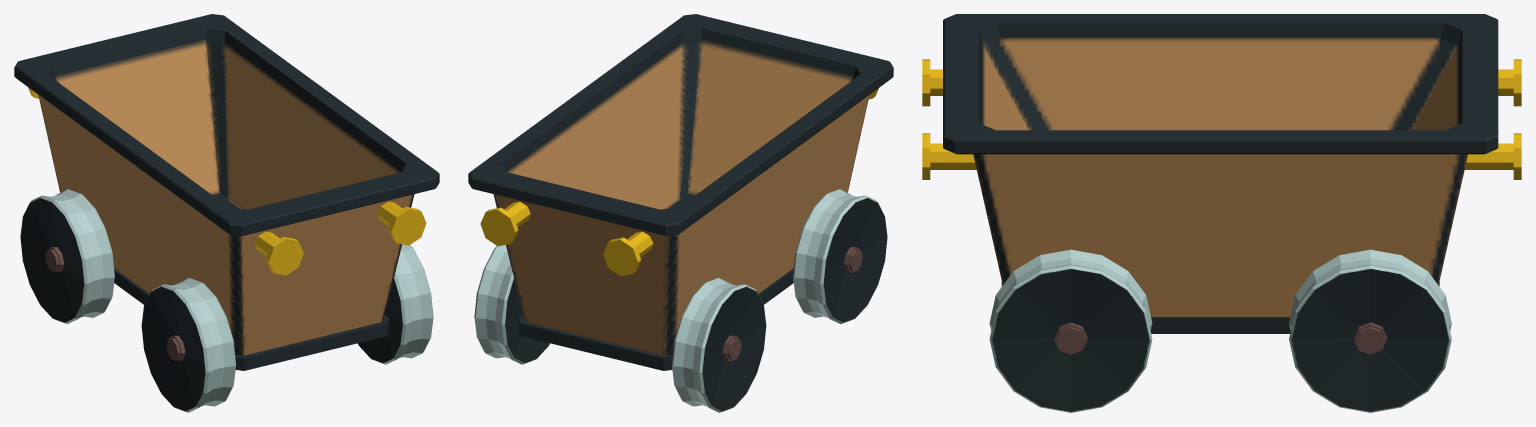
The model's file is Carro.fbx.
3 views of the same model, side by side, from view 1: azimuth 30°, elevation 25°; view 2: azimuth 150°, elevation 25°; view 3: azimuth 270°, elevation 25° (orthographic). The views are drawn at different scales.
Visible parts, largest first — view 1: MineCar; view 2: MineCar; view 3: MineCar.
Boxes of the visible parts, x1,y1,x2,y2 form: MineCar: (14, 14, 439, 412); MineCar: (468, 14, 893, 412); MineCar: (922, 14, 1521, 412).
Bounding box in the file's own units: 532 × 479 × 968.
1 material, 1 textured.
